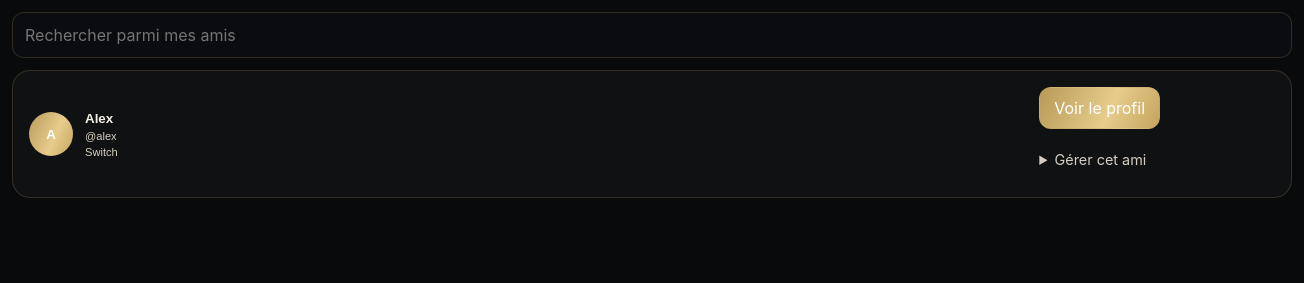
Test: a private profile shows an actionable error and permits retry
The image size is (1304, 283).
Click the button "Voir le profil" at point(1100, 108), box [1039,87,1160,129]
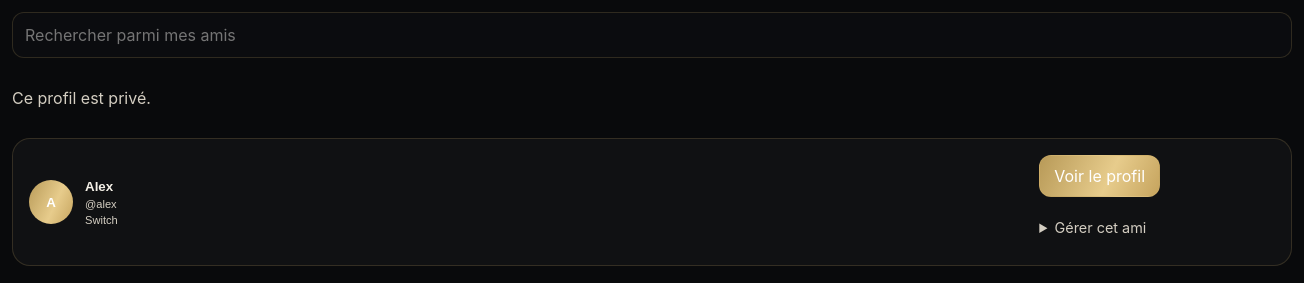
Expected: the button "Voir le profil" is enabled, [1039,155,1160,197]
Now the message reads "Ce profil est privé.", box [12,88,151,108]
